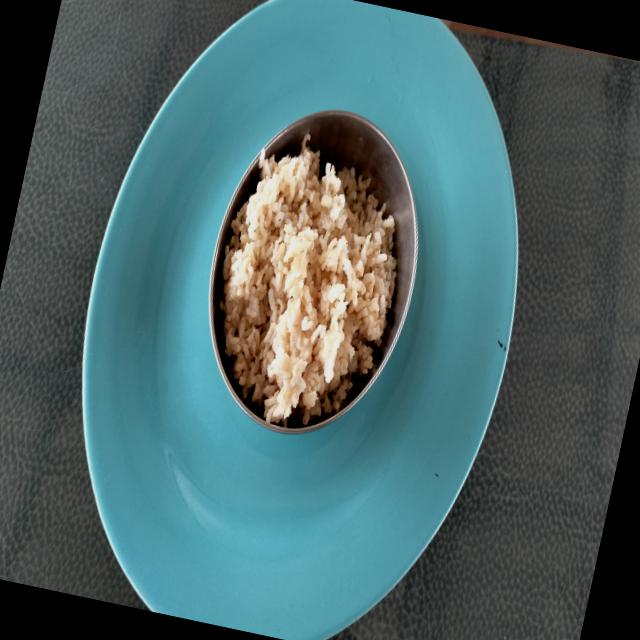brown-rice: (221, 141, 396, 425)
